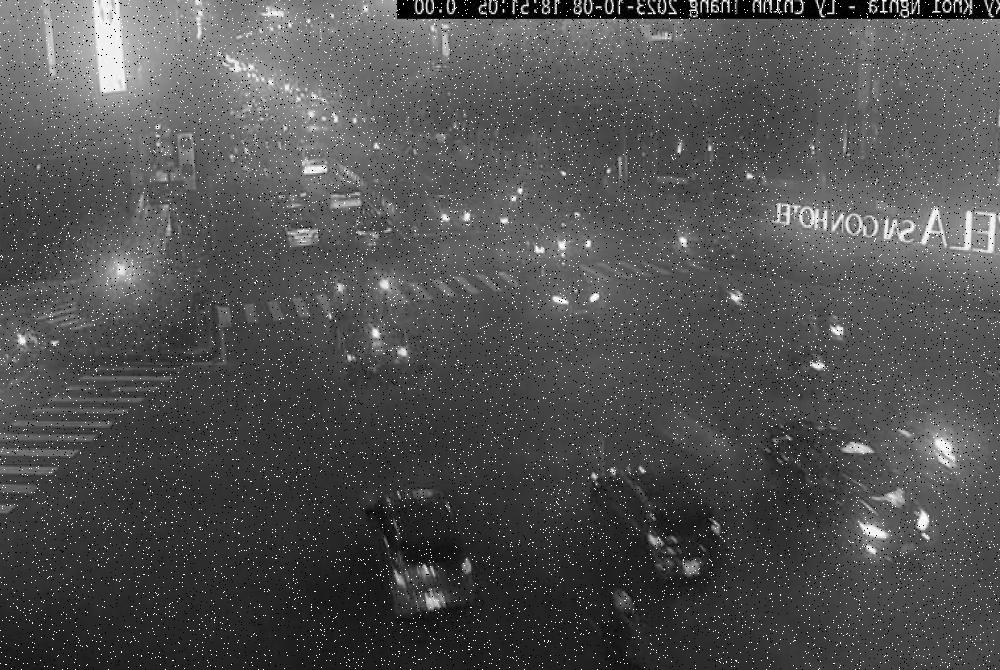car: (743, 410, 949, 583), (570, 414, 744, 594), (369, 464, 475, 618), (491, 246, 615, 364)
